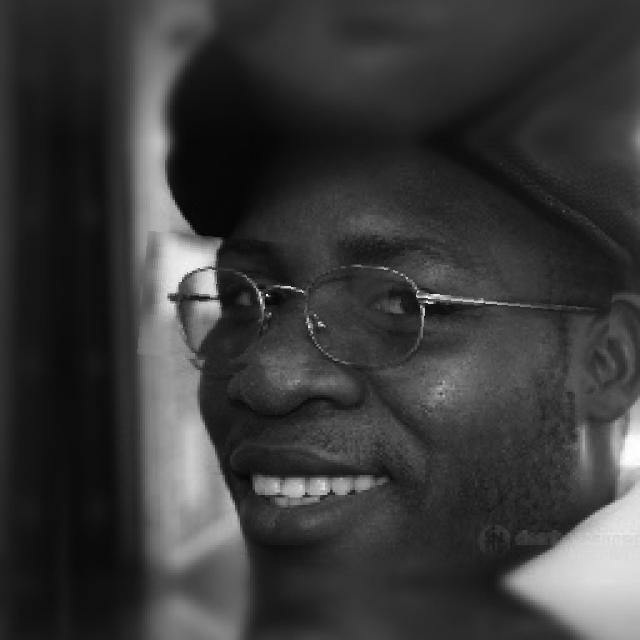glasses: (140, 242, 612, 386)
